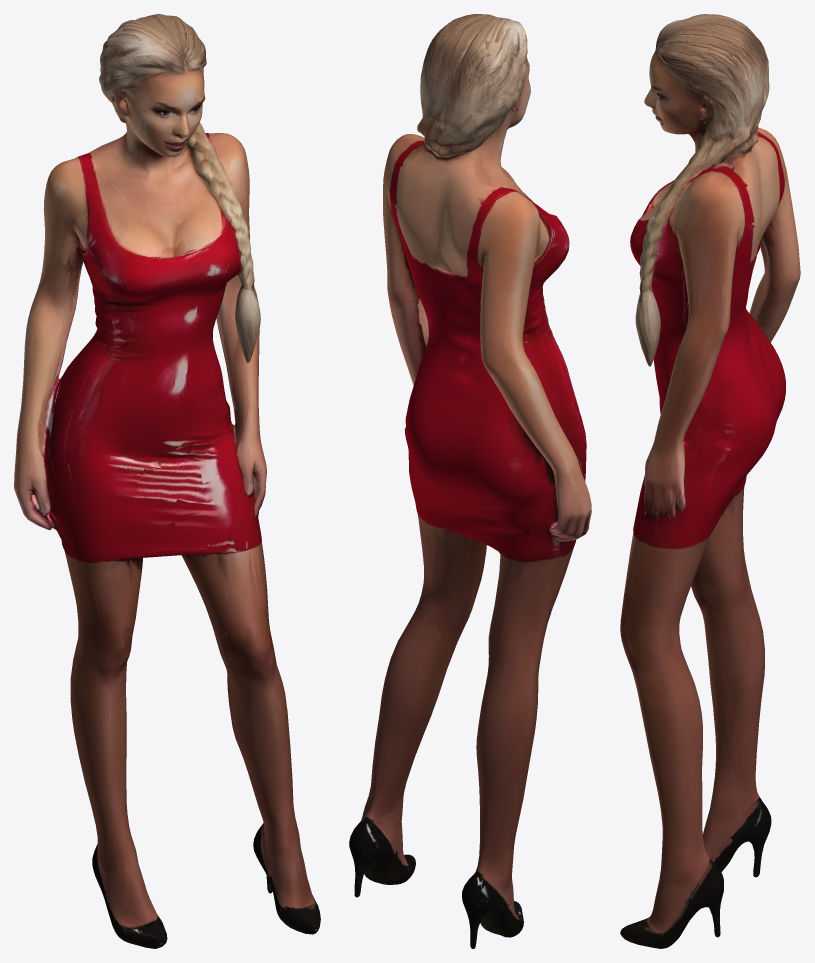
File: diva.glb
3 views of the same model, side by side, from view 1: azimuth 30°, elevation 25°; view 2: azimuth 150°, elevation 25°; view 3: azimuth 270°, elevation 25° (orthographic). The views are drawn at different scales.
Parts seen in each view (by area): view 1: mesh_0; view 2: mesh_0; view 3: mesh_0.
Part boxes in pixels (<box>): mesh_0: <box>14,14,320,948</box>; mesh_0: <box>349,14,591,948</box>; mesh_0: <box>620,14,800,948</box>.
Size of the model in its own units: 0.5567 by 1.85 by 0.3486.
Materials: 1 (1 with a texture image).
